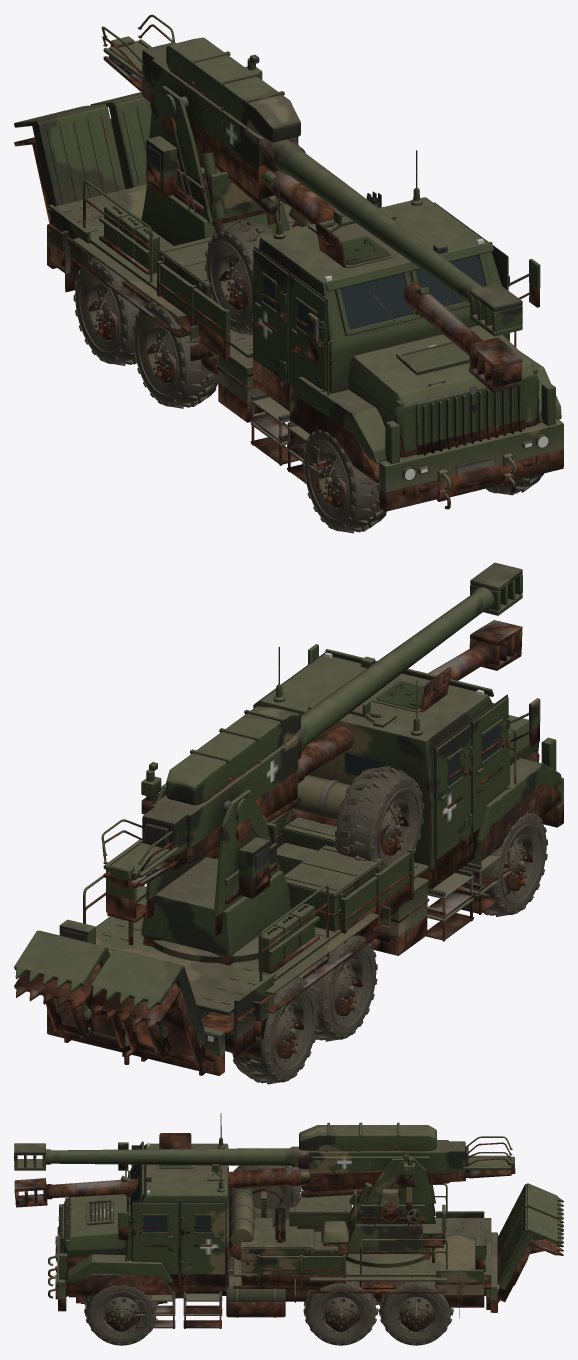
Rendered from bohdana.glb.
The picture shows the model from 3 angles, top to bottom: view 1: azimuth 30°, elevation 25°; view 2: azimuth 150°, elevation 25°; view 3: azimuth 270°, elevation 25°; orthographic projection. The views are drawn at different scales.
Parts seen in each view (by area): view 1: hull_geo, gun_geo, hull_wreck, turret_wreck, turret_geo, spade_R_geo, wheel_R2_geo, wheel_R1_geo, wheel_R3_geo, spade_L_geo, hatch_lid_commander_geo; view 2: hull_geo, hull_wreck, gun_geo, turret_geo, turret_wreck, wheel_R3_geo, spade_R_geo, wheel_R2_geo, wheel_R1_geo, spade_L_geo, hatch_lid_commander_geo; view 3: hull_geo, hull_wreck, gun_geo, turret_wreck, turret_geo, wheel_L3_geo, wheel_L2_geo, wheel_L1_geo, spade_L_geo, spade_R_geo.
Part boxes in pixels (x1,y1,x2,y2): hull_geo: [47, 150, 563, 492]; gun_geo: [101, 14, 522, 336]; hull_wreck: [14, 118, 563, 511]; turret_wreck: [102, 24, 522, 392]; turret_geo: [141, 54, 291, 249]; spade_R_geo: [14, 104, 125, 206]; wheel_R2_geo: [132, 301, 218, 408]; wheel_R1_geo: [302, 429, 386, 533]; wheel_R3_geo: [73, 257, 139, 365]; spade_L_geo: [91, 92, 151, 188]; hatch_lid_commander_geo: [342, 236, 390, 265]; hull_geo: [47, 644, 563, 1056]; hull_wreck: [14, 666, 563, 1075]; gun_geo: [101, 562, 522, 880]; turret_geo: [106, 762, 291, 962]; turret_wreck: [102, 620, 522, 965]; wheel_R3_geo: [231, 976, 319, 1084]; spade_R_geo: [90, 949, 205, 1048]; wheel_R2_geo: [311, 935, 377, 1041]; wheel_R1_geo: [473, 813, 547, 916]; spade_L_geo: [14, 930, 124, 1029]; hatch_lid_commander_geo: [376, 681, 424, 709]; hull_geo: [48, 1113, 498, 1316]; hull_wreck: [48, 1126, 563, 1332]; gun_geo: [14, 1122, 514, 1179]; turret_wreck: [14, 1142, 515, 1262]; turret_geo: [346, 1154, 445, 1267]; wheel_L3_geo: [378, 1281, 453, 1345]; wheel_L2_geo: [303, 1281, 378, 1345]; wheel_L1_geo: [84, 1285, 158, 1345]; spade_L_geo: [497, 1207, 563, 1290]; spade_R_geo: [497, 1183, 563, 1260].
Size of what is drawn, in the model's own units: 3.11 by 3.91 by 10.24.
4 materials, 2 textured.
